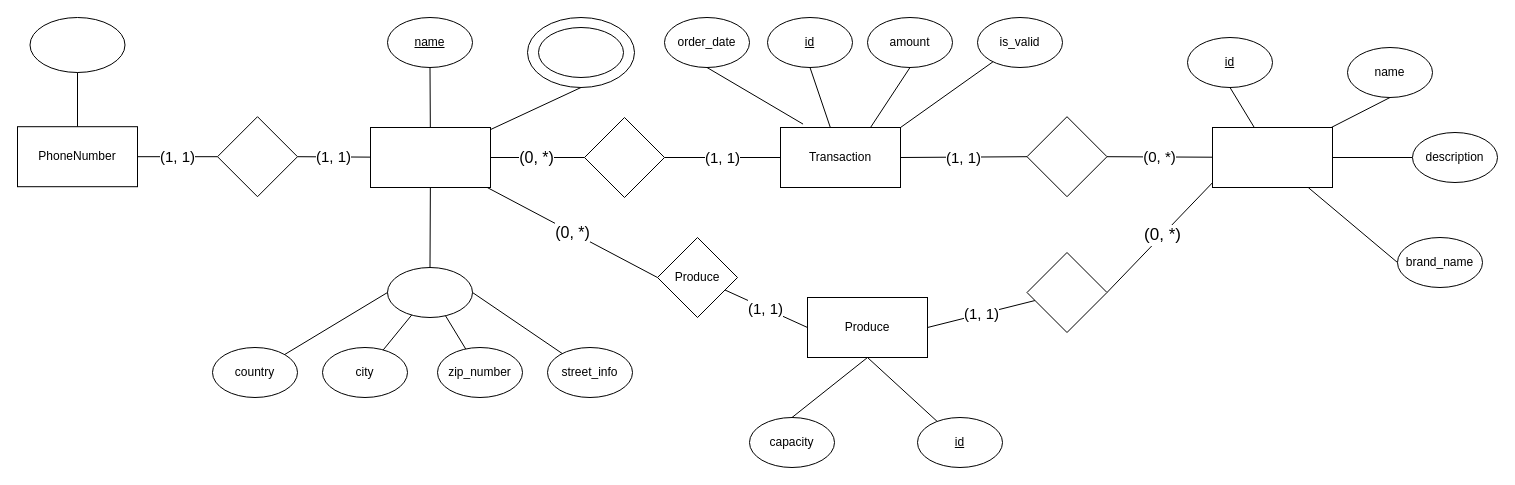
This 1515x485 diagram has some shape labels left out. Each missing label, with the box of its shape:
address: (386, 266, 472, 318)
Company: (370, 126, 490, 188)
email: (538, 26, 624, 78)
Has: (584, 116, 664, 198)
Has phone: (216, 116, 298, 197)
Is ordered: (1026, 116, 1107, 197)
Is produced: (1026, 252, 1107, 332)
phone_number: (29, 16, 125, 72)
Product: (1212, 126, 1332, 188)
